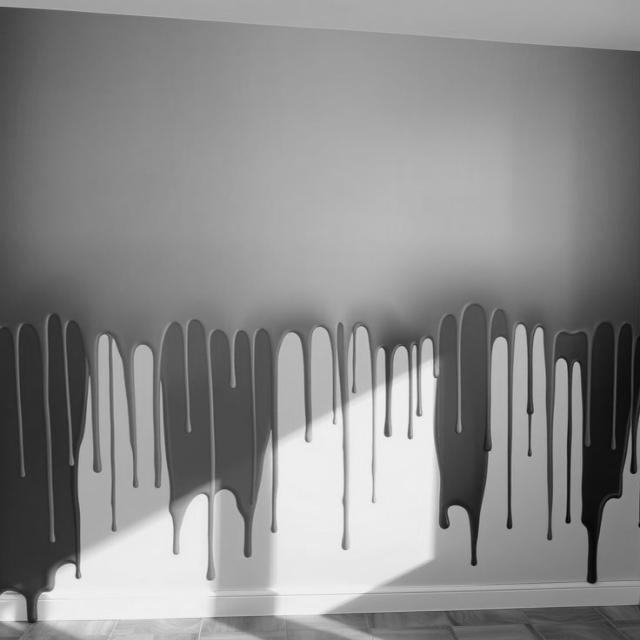paint drips: (0, 293, 640, 627)
